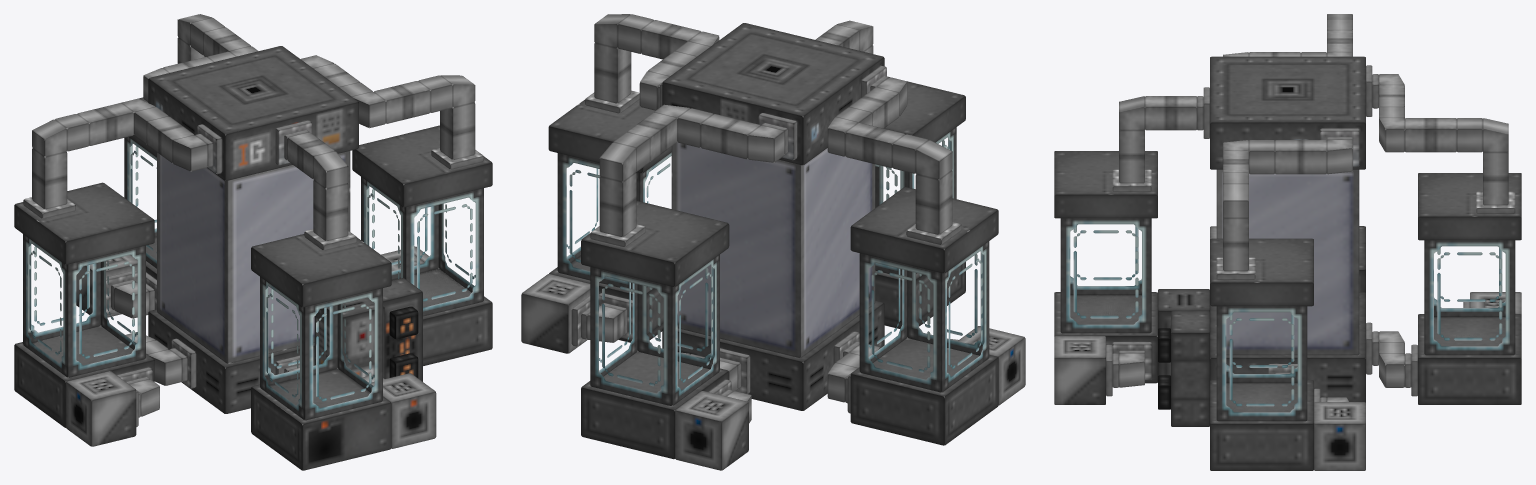
File: chemical_reactor.obj
3 views of the same model, side by side, from view 1: azimuth 30°, elevation 25°; view 2: azimuth 150°, elevation 25°; view 3: azimuth 270°, elevation 25° (orthographic). The views are drawn at different scales.
Visible parts, largest first — view 1: cube.131; view 2: cube.131; view 3: cube.131.
Part boxes in pixels (left/top/right/bottom): cube.131: left=14, top=14, right=492, bottom=470; cube.131: left=521, top=14, right=1025, bottom=470; cube.131: left=1054, top=14, right=1521, bottom=470.
Bounding box in the file's own units: 9.01 × 6 × 9.
